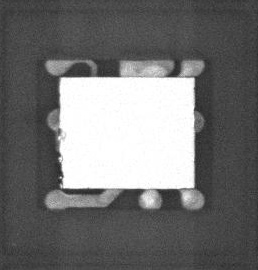DIE_BROKEN: (57, 126, 66, 188)
